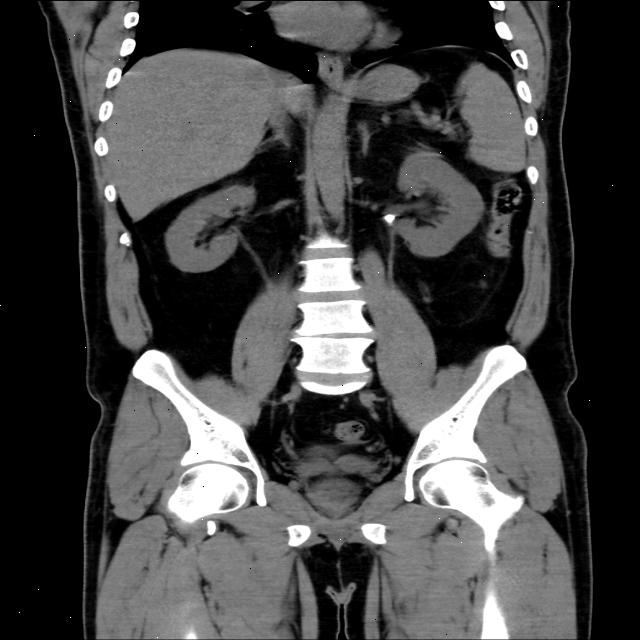kidneystone: (384, 214, 397, 225)
